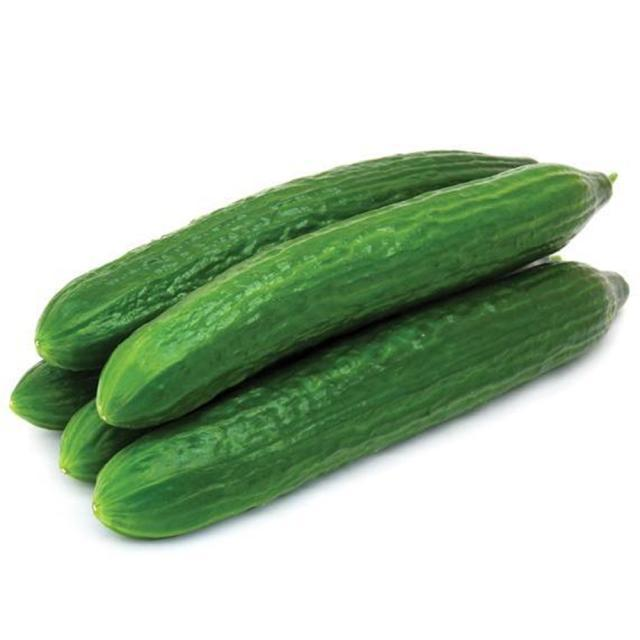cucumber: (84, 260, 630, 550), (88, 162, 630, 431), (33, 151, 541, 375)
